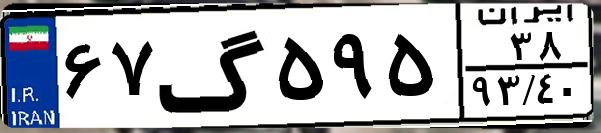0: (560, 70, 590, 125)
3: (508, 27, 537, 80), (495, 70, 520, 125)
4: (535, 70, 560, 125)
5: (270, 28, 330, 110), (385, 28, 445, 110)
6: (57, 26, 110, 100)
7: (110, 28, 156, 98)
8: (537, 27, 568, 80)
9: (330, 28, 385, 110), (470, 70, 495, 125)
گ: (156, 12, 270, 120)
